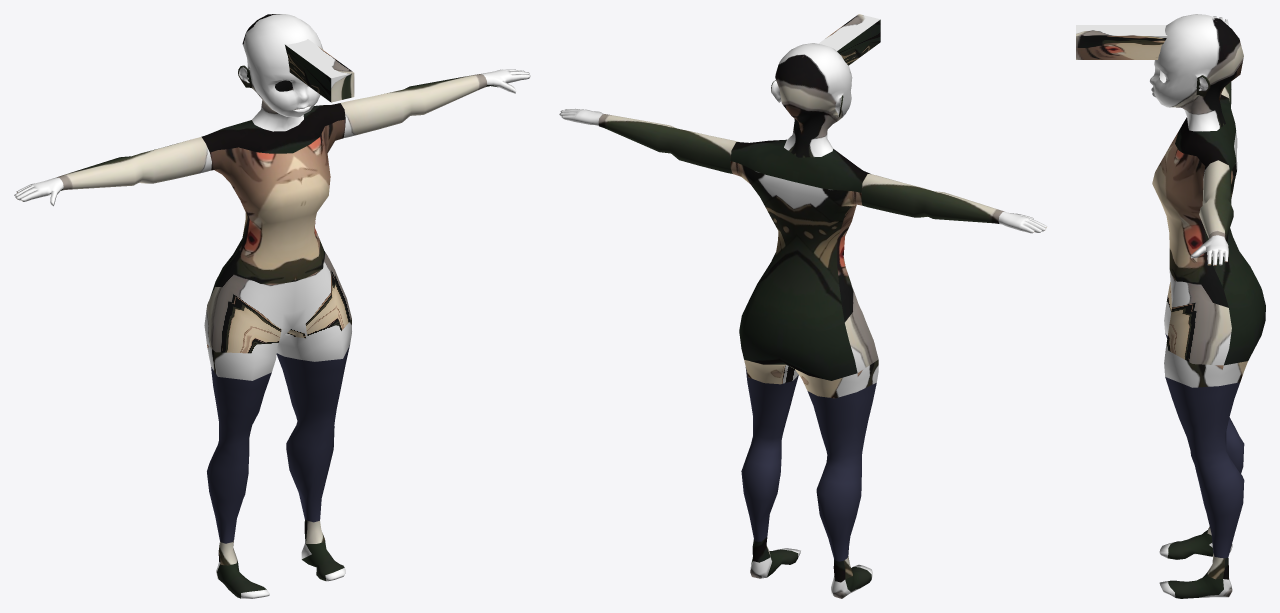
File: EnemyWIP.glb
The picture shows the model from 3 angles, left to right: view 1: azimuth 30°, elevation 25°; view 2: azimuth 150°, elevation 25°; view 3: azimuth 270°, elevation 25°; orthographic projection. The views are drawn at different scales.
Visible parts, largest first — view 1: Cube.001; view 2: Cube.001; view 3: Cube.001.
Part boxes in pixels (x1=…): Cube.001: x1=14, y1=14, x2=530, y2=598; Cube.001: x1=559, y1=14, x2=1047, y2=598; Cube.001: x1=1076, y1=14, x2=1265, y2=598.
Size of the model in its own units: 6.01 by 6.27 by 1.94.
2 materials, 1 textured.
